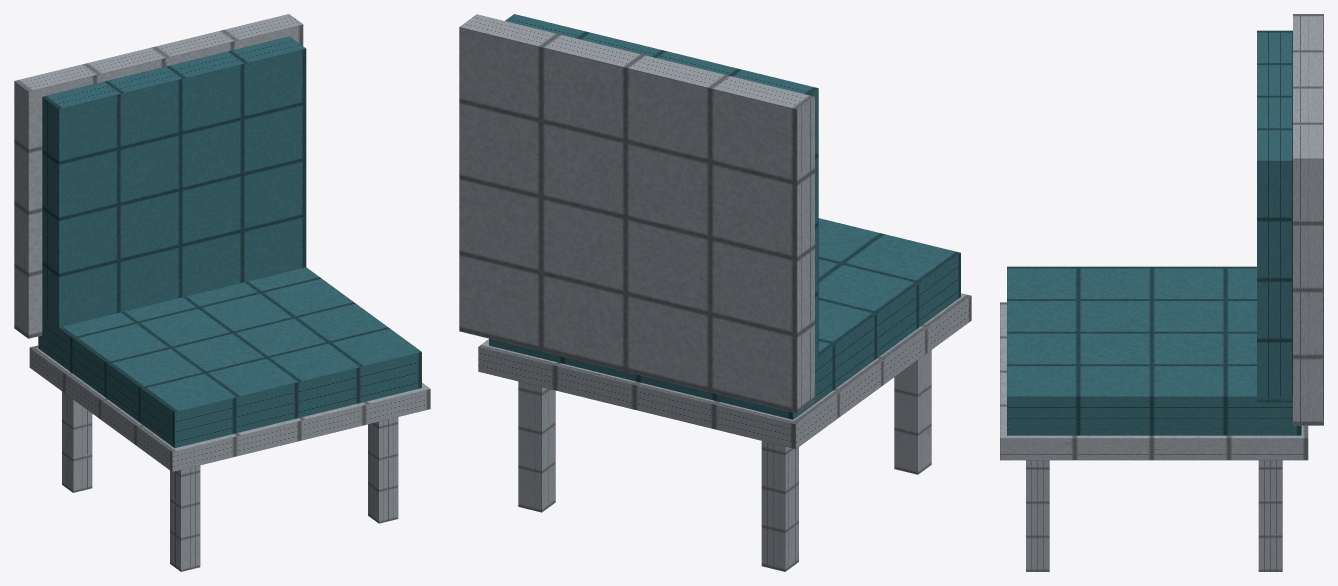
The model's file is cafe_chair.glb.
The picture shows the model from 3 angles, left to right: view 1: azimuth 30°, elevation 25°; view 2: azimuth 150°, elevation 25°; view 3: azimuth 270°, elevation 25°; orthographic projection. The views are drawn at different scales.
Parts seen in each view (by area): view 1: Back cushion, Seat cushion, Back frame, Seat pan, Metal chair leg (×3); view 2: Back frame, Seat cushion, Seat pan, Metal chair leg (×3), Back cushion; view 3: Seat cushion, Back cushion, Back frame, Seat pan, Metal chair leg (×2).
Part boxes in pixels (bbox=[...]): Back cushion: bbox=[42, 36, 306, 327]; Seat cushion: bbox=[38, 267, 421, 447]; Back frame: bbox=[14, 14, 303, 338]; Seat pan: bbox=[29, 345, 430, 471]; Metal chair leg (×3): bbox=[62, 391, 398, 571]; Back frame: bbox=[459, 14, 814, 413]; Seat cushion: bbox=[489, 218, 960, 419]; Seat pan: bbox=[478, 293, 971, 448]; Metal chair leg (×3): bbox=[518, 350, 931, 571]; Back cushion: bbox=[505, 14, 818, 359]; Seat cushion: bbox=[1007, 266, 1301, 435]; Back cushion: bbox=[1257, 30, 1292, 402]; Back frame: bbox=[1293, 14, 1323, 425]; Seat pan: bbox=[1000, 302, 1308, 460]; Metal chair leg (×2): bbox=[1026, 460, 1282, 571].
Size of the model in its own units: 1 by 1.38 by 0.945.
2 materials, 2 textured.
